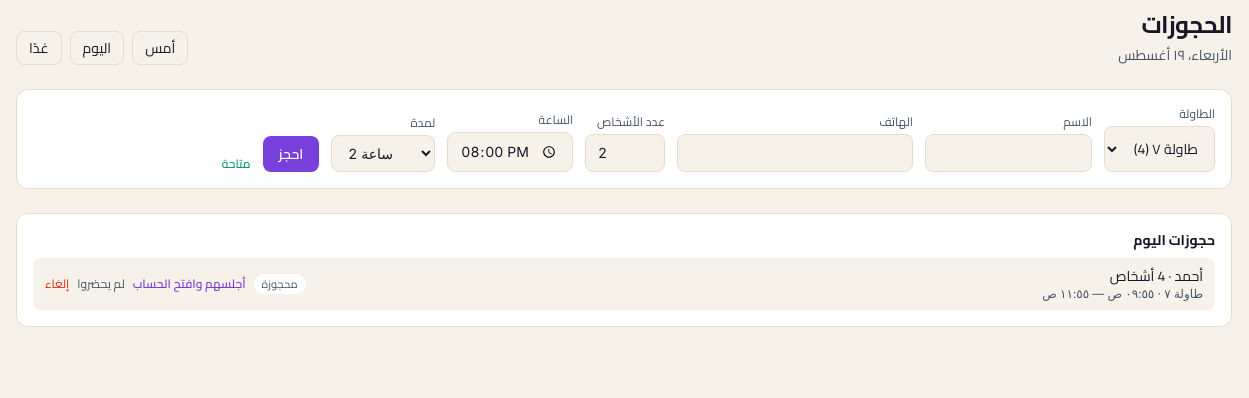
Test: seating a party › an occupied table says so, and says what to do
This screenshot has width=1249, height=398.
Click the button with test id "seat-r-1".
click(189, 284)  # box [133, 276, 246, 292]
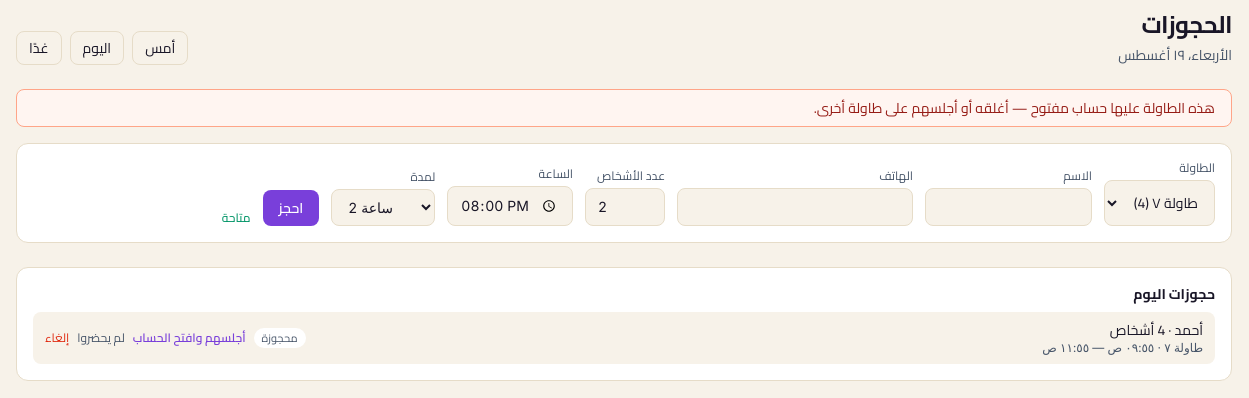
Expected: the text "عليها حساب مفتوح" is shown, [814, 95, 1215, 121]
